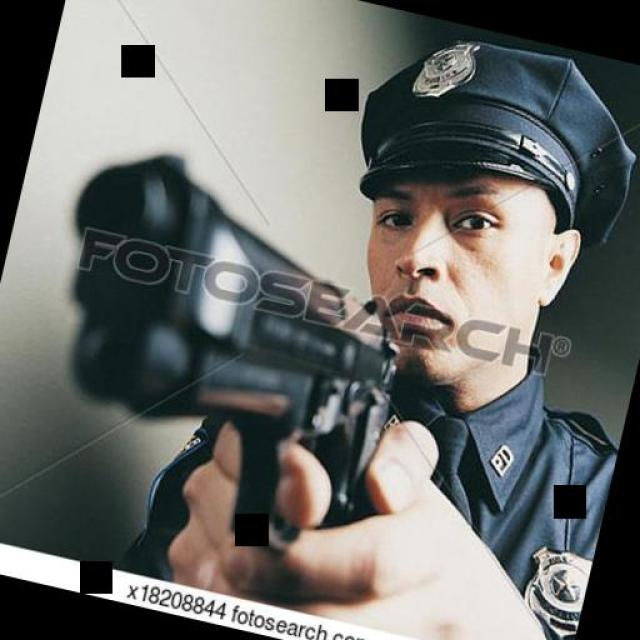gun: (10, 132, 441, 572)
